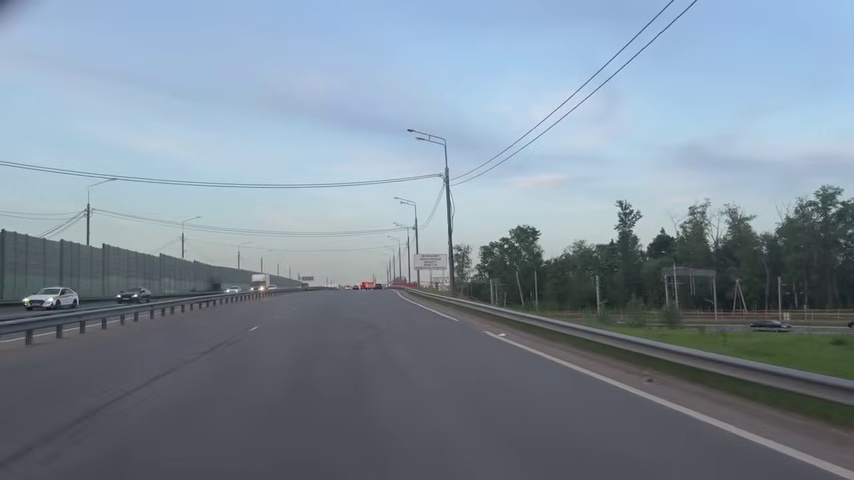apagada: (404, 125, 428, 146)
